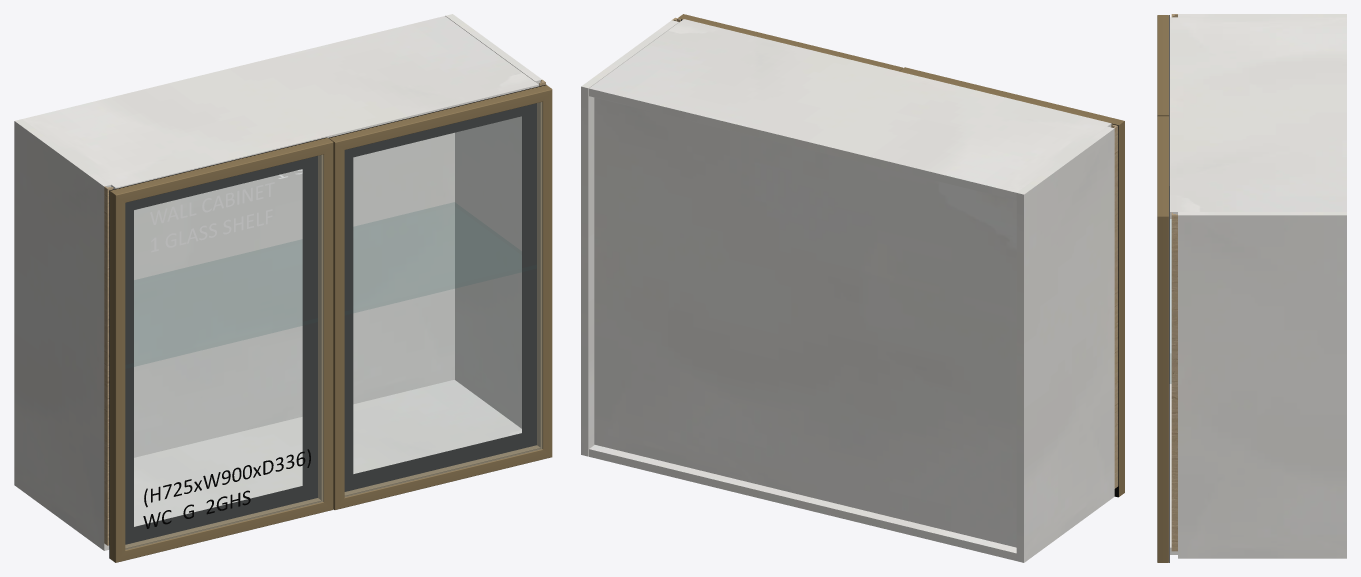
Rendered from WC-SH-NHX-GL-1SG-2HS-XXX-900-725-336-15.glb.
3 views of the same model, side by side, from view 1: azimuth 30°, elevation 25°; view 2: azimuth 150°, elevation 25°; view 3: azimuth 270°, elevation 25° (orthographic). The views are drawn at different scales.
Visible parts, largest first — view 1: Object_node_8, Object_node_4, TP_node_2, TP, Neon 22 Profile ALU PROF NEON 20 L21XH22.5MM 3MTR S2/405 SEC (×8), TP_node_0, TP_node, TP_node_1, Object_node_6, Object_node_10, Object_node_12, 2D text (+1 smaller); view 2: TP_node_2, TP, TP_node_0, TP_node, TP_node_1, Neon 22 Profile ALU PROF NEON 20 L21XH22.5MM 3MTR S2/405 SEC (×3), Object_node_12; view 3: TP_node_1, TP, Neon 22 Profile ALU PROF NEON 20 L21XH22.5MM 3MTR S2/405 SEC (×3), Object_node_20, TP_node_0, Object_node_10, TP_node.
Part boxes in pixels (x1,y1,x2,y2): Object_node_8: (345,102,542,496); Object_node_4: (125,155,323,549); TP_node_2: (134,132,454,457); TP: (22,16,538,189); Neon 22 Profile ALU PROF NEON 20 L21XH22.5MM 3MTR S2/405 SEC (×8): (110,85,552,562); TP_node_0: (14,119,111,550); TP_node: (134,379,521,526); TP_node_1: (445,14,541,428); Object_node_6: (109,137,326,558); Object_node_10: (328,84,546,491); Object_node_12: (104,186,113,545); 2D text: (150,182,274,252); TP_node_2: (594,97,1016,547); TP: (589,19,1111,200); TP_node_0: (1016,126,1114,562); TP_node: (589,445,1016,560); TP_node_1: (581,20,678,456); Neon 22 Profile ALU PROF NEON 20 L21XH22.5MM 3MTR S2/405 SEC (×3): (678,14,1124,496); Object_node_12: (1111,124,1118,488); TP_node_1: (1178,212,1346,558); TP: (1170,17,1346,218); Neon 22 Profile ALU PROF NEON 20 L21XH22.5MM 3MTR S2/405 SEC (×3): (1157,15,1168,562); Object_node_20: (1171,212,1177,551); TP_node_0: (1178,14,1346,17); Object_node_10: (1169,116,1169,562); TP_node: (1170,353,1177,554).
Size of what is drawn, in the model's own units: 0.9 by 0.725 by 0.366.
Materials: 8 (2 with a texture image).
